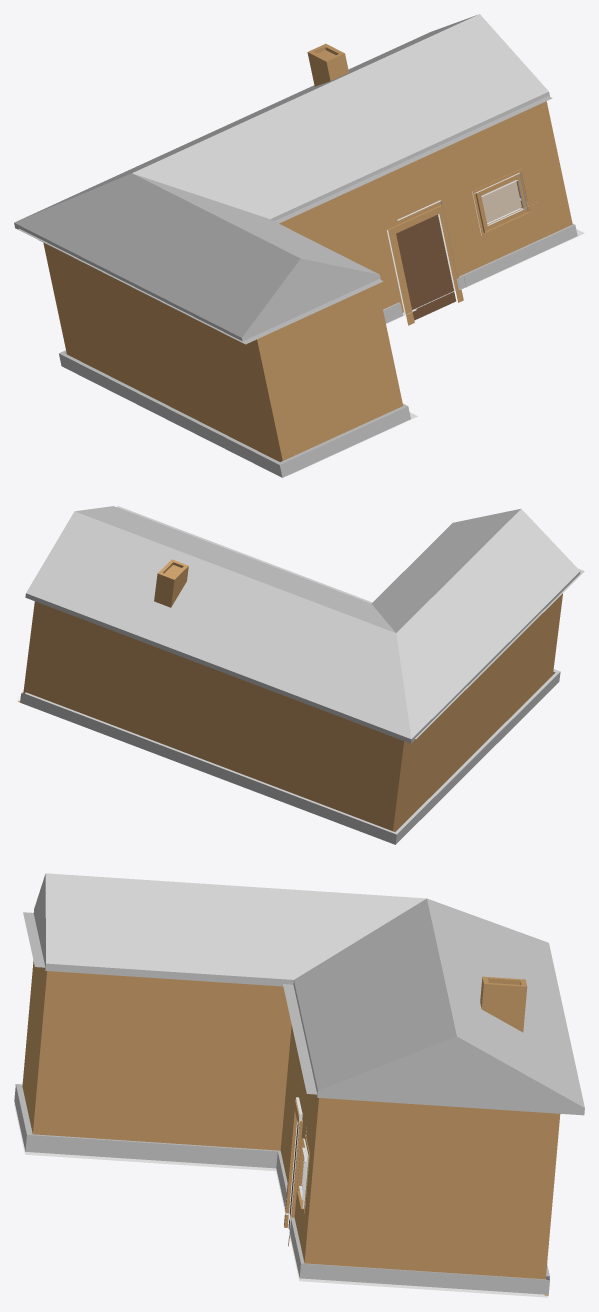
The model's file is house_centered.dae.
3 views of the same model, one above another, from view 1: azimuth 30°, elevation 25°; view 2: azimuth 150°, elevation 25°; view 3: azimuth 270°, elevation 25° (orthographic). The views are drawn at different scales.
Visible parts, largest first — view 1: SketchUp, SketchUp_011, SketchUp_013, SketchUp_003, SketchUp_002, SketchUp_014, SketchUp_005, SketchUp_001, SketchUp_004; view 2: SketchUp, SketchUp_011, SketchUp_013, SketchUp_002, SketchUp_014; view 3: SketchUp_011, SketchUp, SketchUp_013, SketchUp_001, SketchUp_014, SketchUp_002.
Boxes of the visible parts, box(x1,y1,x2,y2) form: SketchUp: box(14, 14, 549, 341); SketchUp_011: box(43, 101, 572, 461); SketchUp_013: box(59, 198, 577, 477); SketchUp_003: box(396, 214, 456, 320); SketchUp_002: box(18, 96, 552, 344); SketchUp_014: box(307, 43, 348, 86); SketchUp_005: box(481, 180, 521, 222); SketchUp_001: box(289, 191, 584, 474); SketchUp_004: box(475, 172, 530, 232); SketchUp: box(25, 506, 580, 743); SketchUp_011: box(18, 593, 562, 831); SketchUp_013: box(20, 669, 560, 844); SketchUp_002: box(117, 506, 584, 738); SketchUp_014: box(154, 559, 188, 607); SketchUp_011: box(22, 960, 560, 1295); SketchUp: box(33, 873, 584, 1115); SketchUp_013: box(14, 1084, 549, 1294); SketchUp_001: box(14, 1097, 548, 1297); SketchUp_014: box(480, 976, 527, 1032); SketchUp_002: box(23, 912, 317, 1094).
Size of the model in its own units: 27.21 by 23.59 by 15.13.
